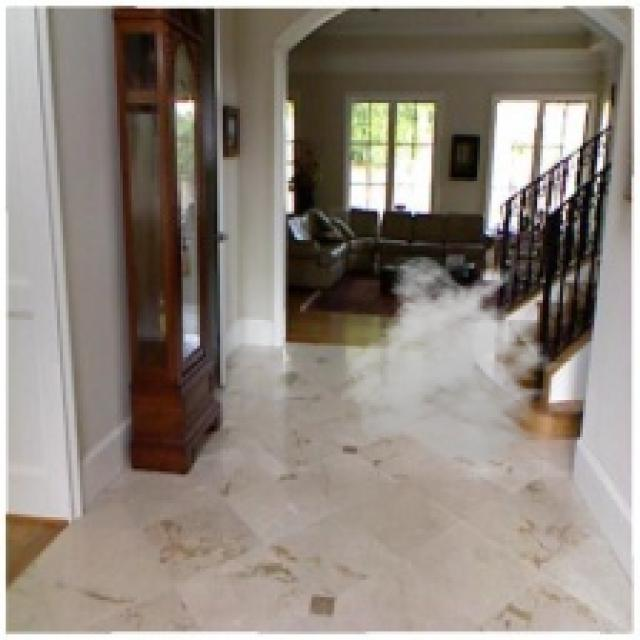smoke: (337, 257, 574, 469)
